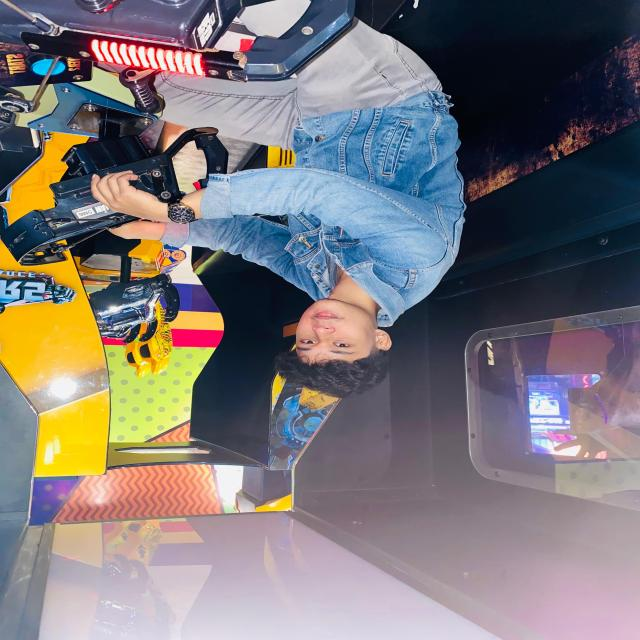nohelmet: (276, 302, 398, 396)
